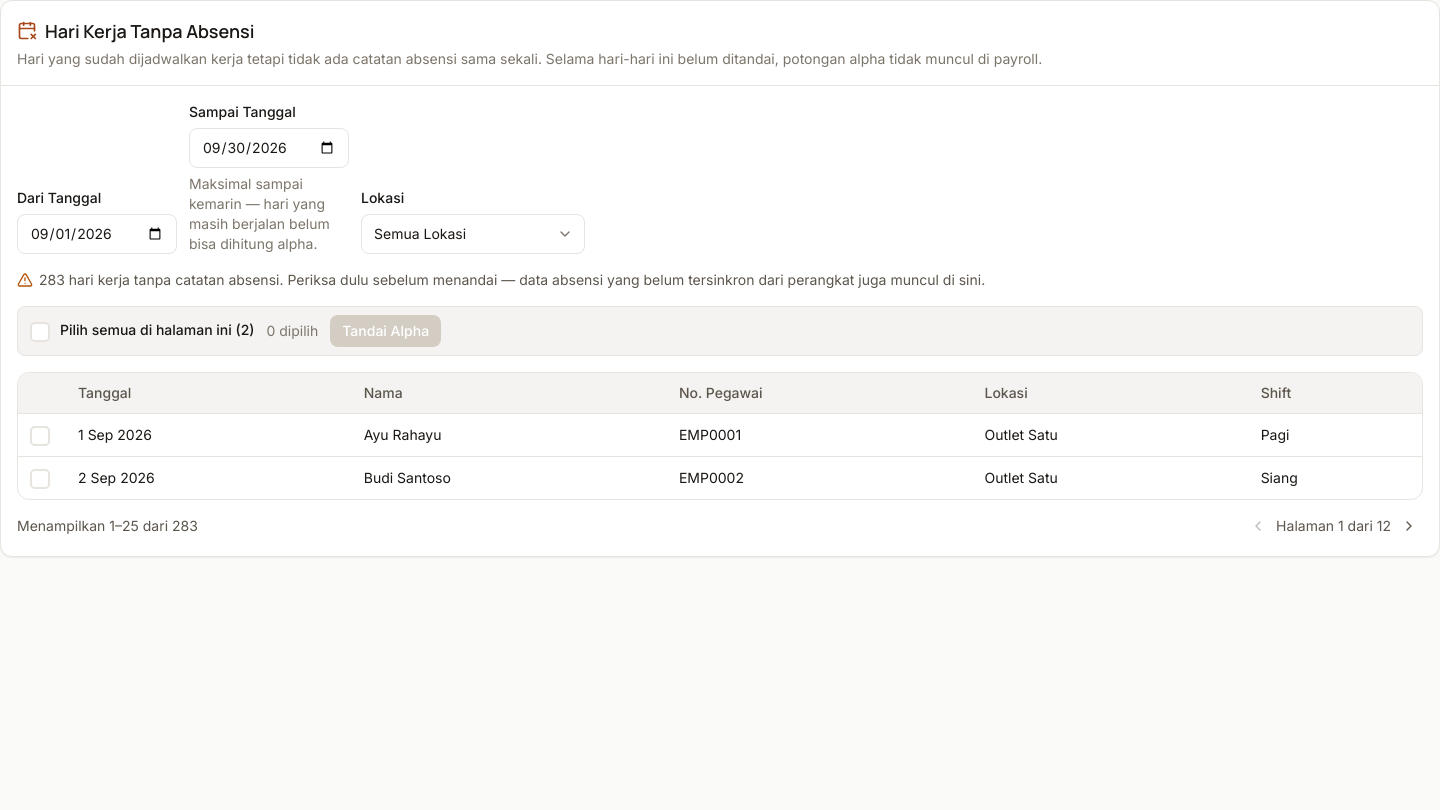
Test case: NoShowWorklist › drops the selection when the filter changes, so it cannot mark rows that scrolled away
The image size is (1440, 810).
Click the 1st checkbox labelled "Pilih semua di halaman ini (2)".
click(142, 331)  # box [30,320,254,342]
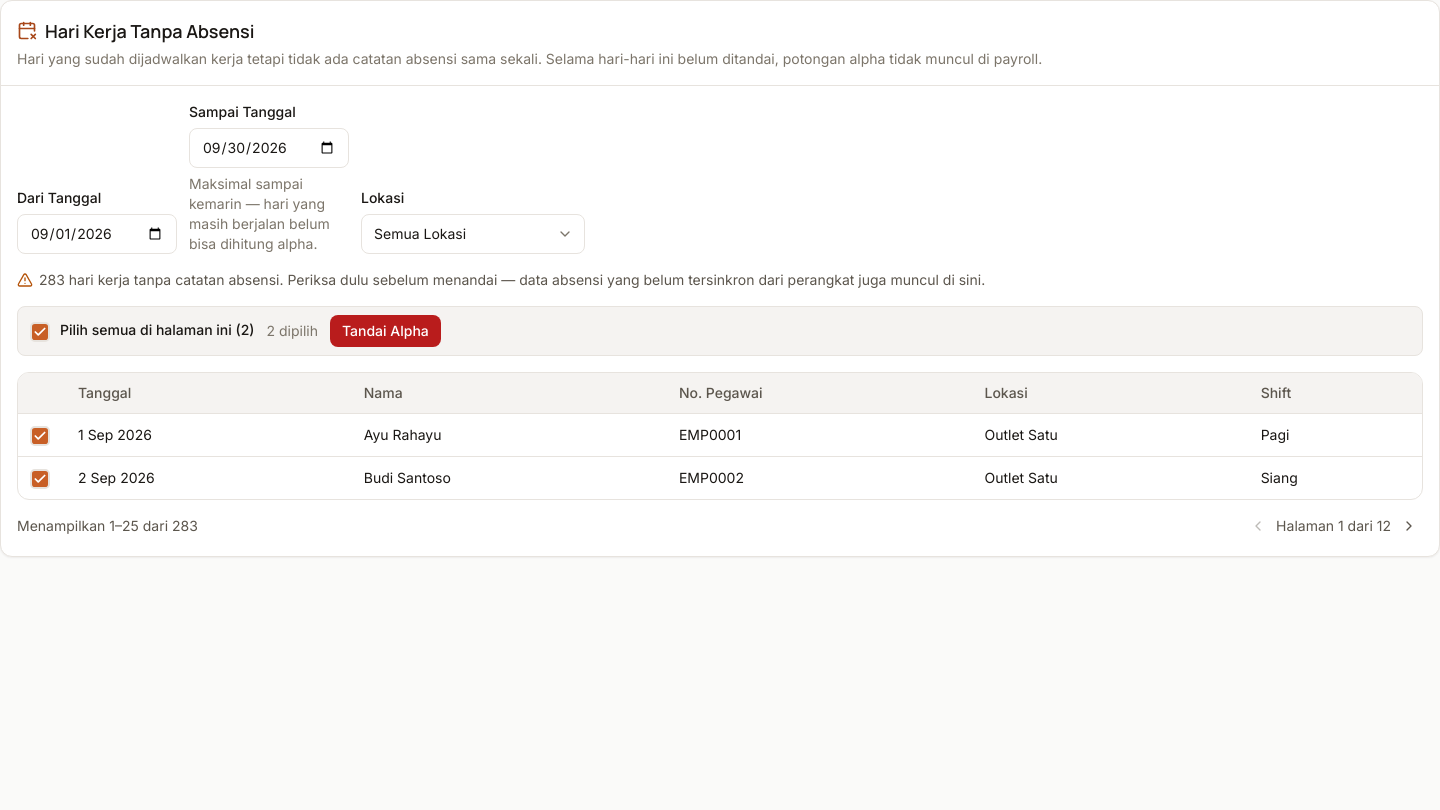
Expected: the text "2 dipilih" is shown, [266,321,318,341]
Type "2026-08-01" into the date field labelled "Dari Tanggal".
click(97, 234); type("2026-08-01")  # box [17,214,177,254]
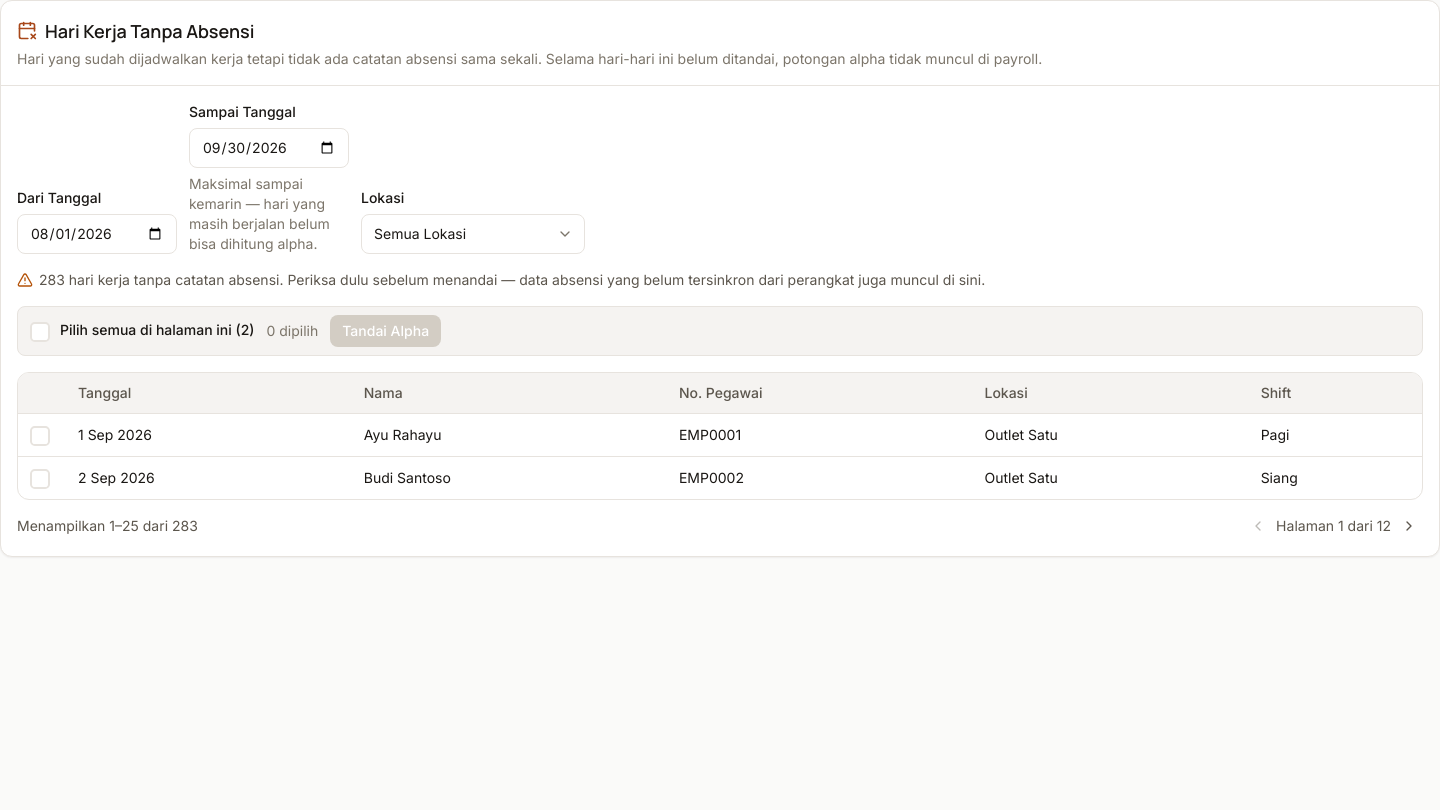
Expected: the text "0 dipilih" is shown, [266,321,318,341]
